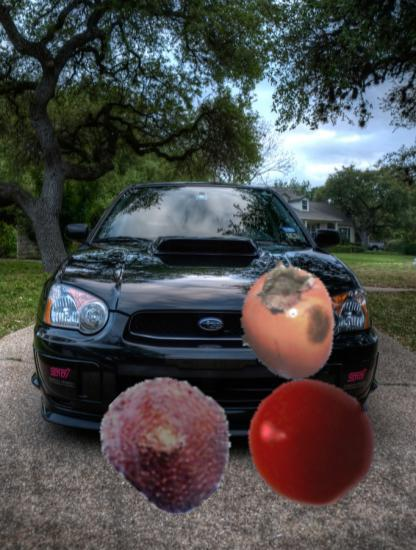Kaki: (226, 260, 348, 382)
Salak: (102, 372, 238, 508)
Tomato: (246, 376, 378, 508)
